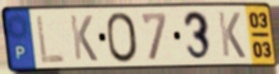3: (182, 9, 216, 64)
7: (140, 10, 169, 63)
K: (68, 13, 100, 64), (216, 10, 248, 60)
L: (34, 13, 67, 66)
O: (104, 10, 141, 65)
